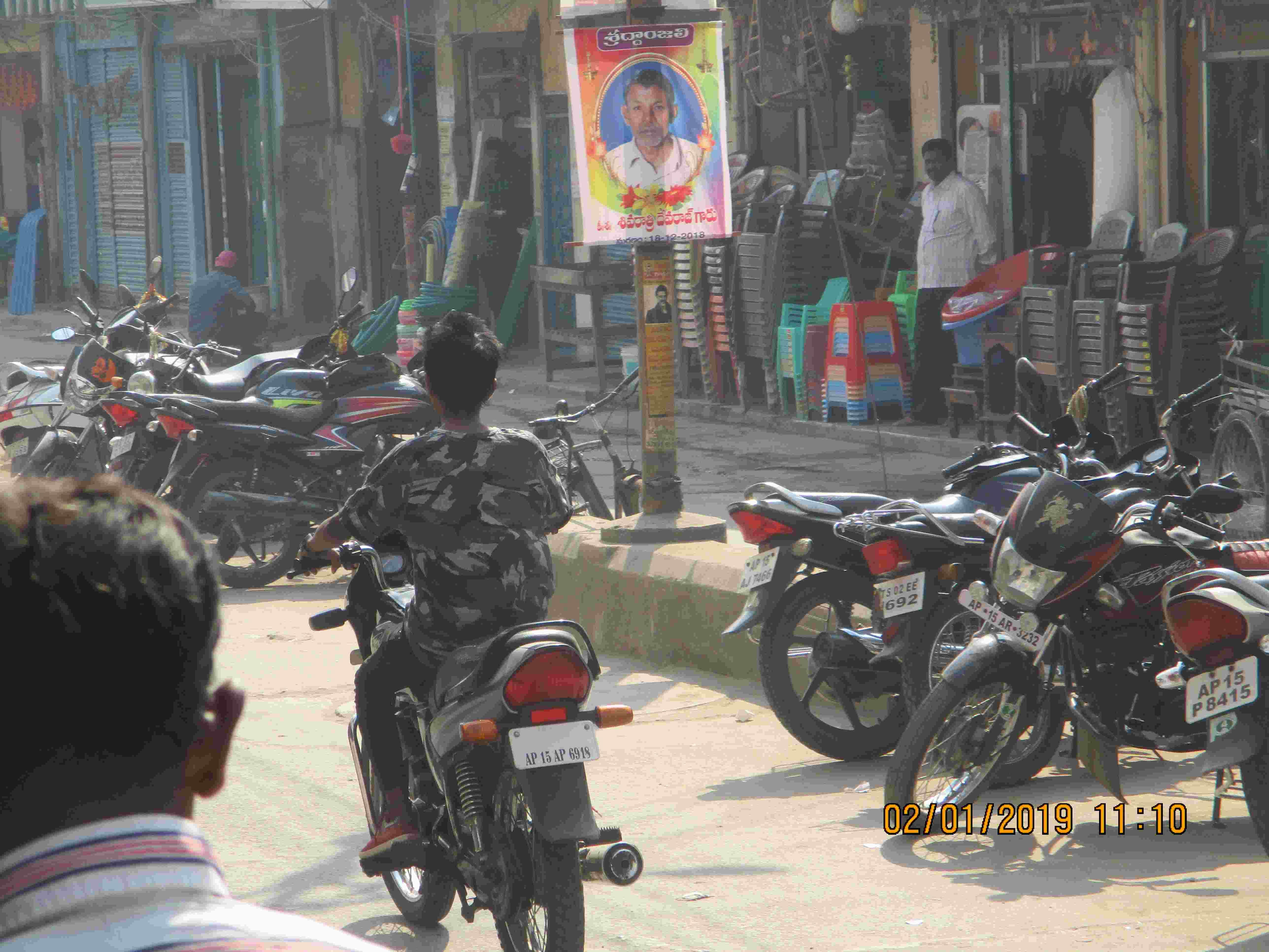plate: (950, 581, 1055, 660), (502, 715, 606, 779), (1186, 651, 1259, 722)
